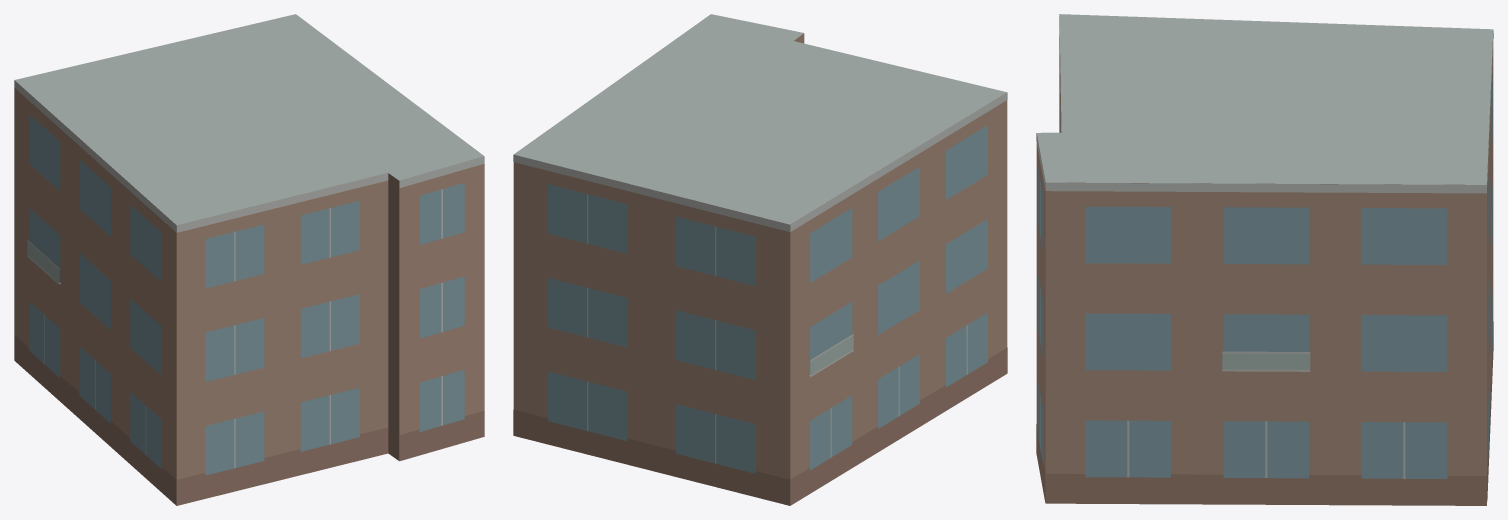
Rendered from survey-upis-32865522.glb.
3 views of the same model, side by side, from view 1: azimuth 30°, elevation 25°; view 2: azimuth 150°, elevation 25°; view 3: azimuth 270°, elevation 25° (orthographic). The views are drawn at different scales.
Visible parts, largest first — view 1: survey-upis-32865522.tmp; view 2: survey-upis-32865522.tmp; view 3: survey-upis-32865522.tmp.
Part boxes in pixels (<box>): survey-upis-32865522.tmp: <box>14,14,484,505</box>; survey-upis-32865522.tmp: <box>513,14,1007,505</box>; survey-upis-32865522.tmp: <box>1036,14,1493,505</box>.
Size of the model in its own units: 10.46 by 9.15 by 11.81.
